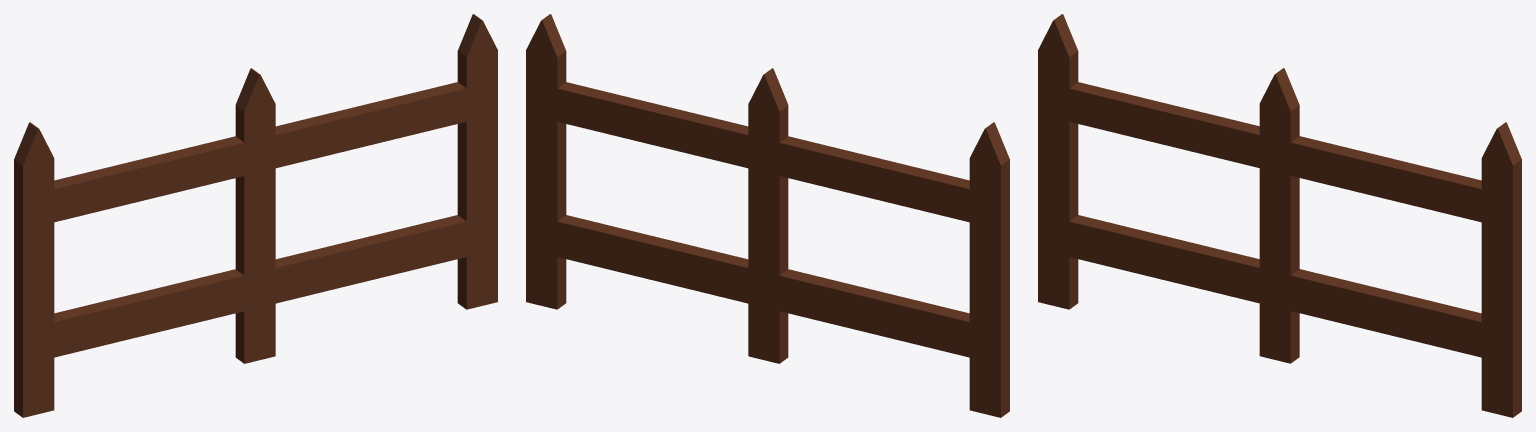
The model's file is Plot.fbx.
The picture shows the model from 3 angles, left to right: view 1: azimuth 30°, elevation 25°; view 2: azimuth 150°, elevation 25°; view 3: azimuth 330°, elevation 25°; orthographic projection.
Parts seen in each view (by area): view 1: Cube; view 2: Cube; view 3: Cube.
Part boxes in pixels (x1,y1,x2,y2): Cube: (14,14,497,417); Cube: (526,14,1009,417); Cube: (1038,14,1521,417).
Bounding box in the file's own units: 13.67 × 240 × 418.
